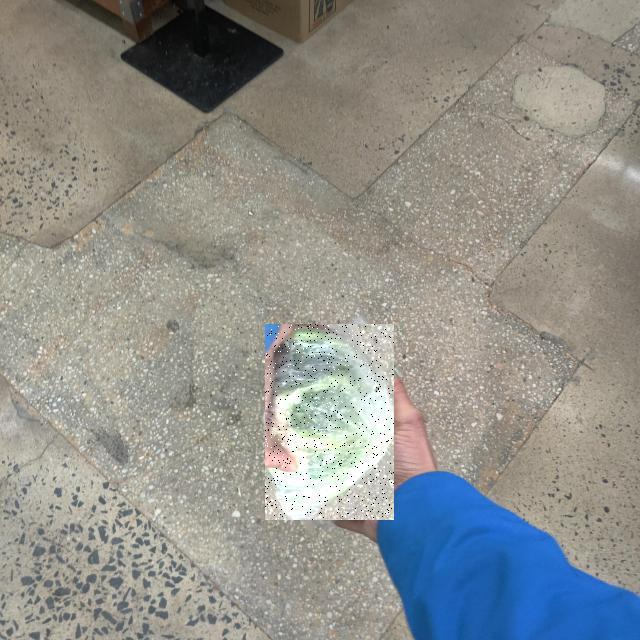Cauliflower: (265, 324, 394, 520)
